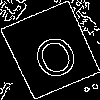O: (25, 25, 82, 82)
